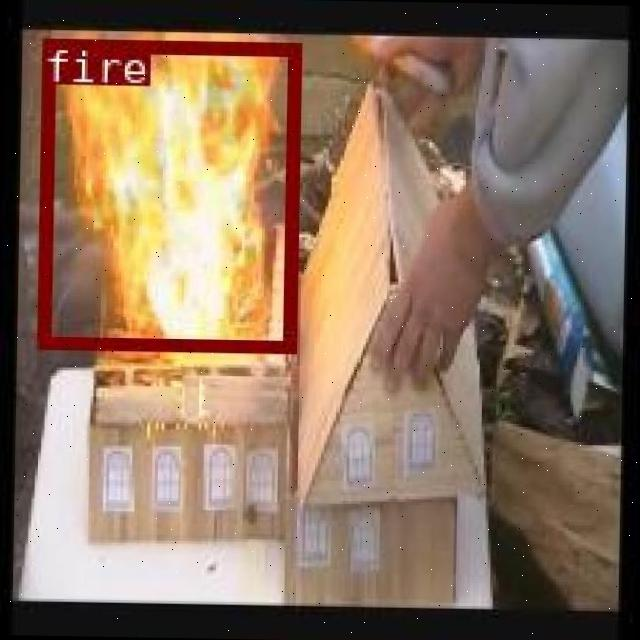fire: (34, 38, 298, 350)
